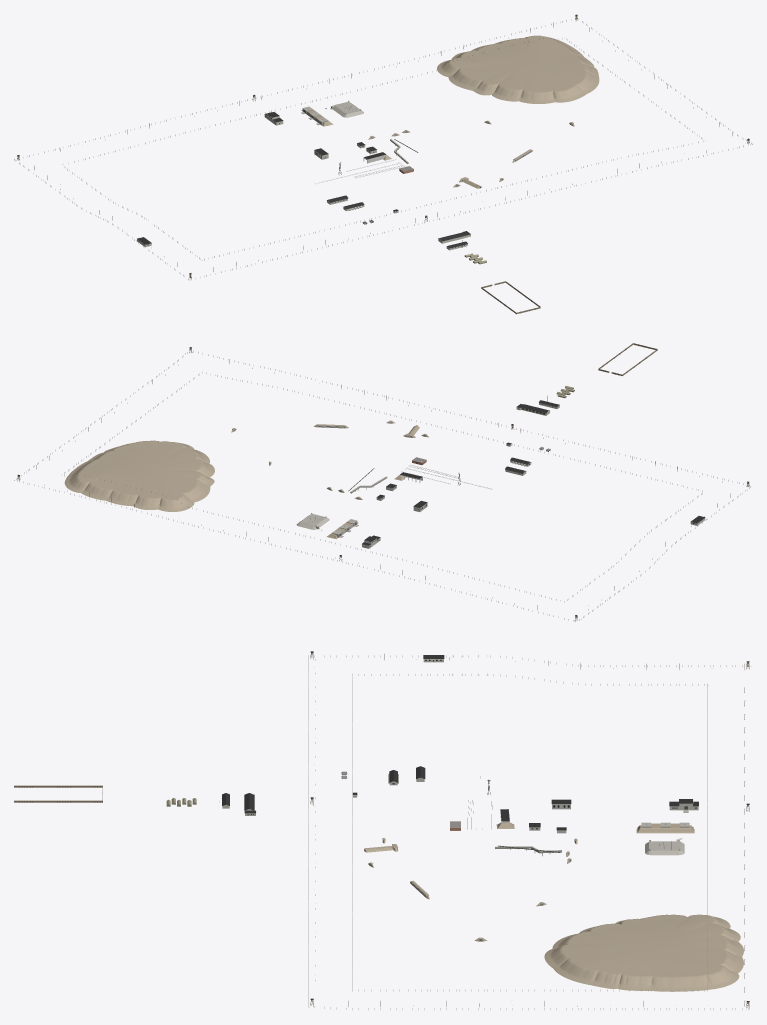
3 renders of one model, top to bottom at view 1: azimuth 30°, elevation 25°; view 2: azimuth 150°, elevation 25°; view 3: azimuth 270°, elevation 25°, orthographic. The views are drawn at different scales.
Parts seen in each view (by area): view 1: SpoilHeap_Earth; view 2: SpoilHeap_Earth; view 3: SpoilHeap_Earth.
Boxes of the visible parts, left/top/right/bottom form: SpoilHeap_Earth: left=437, top=35, right=599, bottom=103; SpoilHeap_Earth: left=64, top=440, right=214, bottom=511; SpoilHeap_Earth: left=544, top=914, right=743, bottom=991.
Bounding box in the file's own units: 922 × 34.08 × 825.
